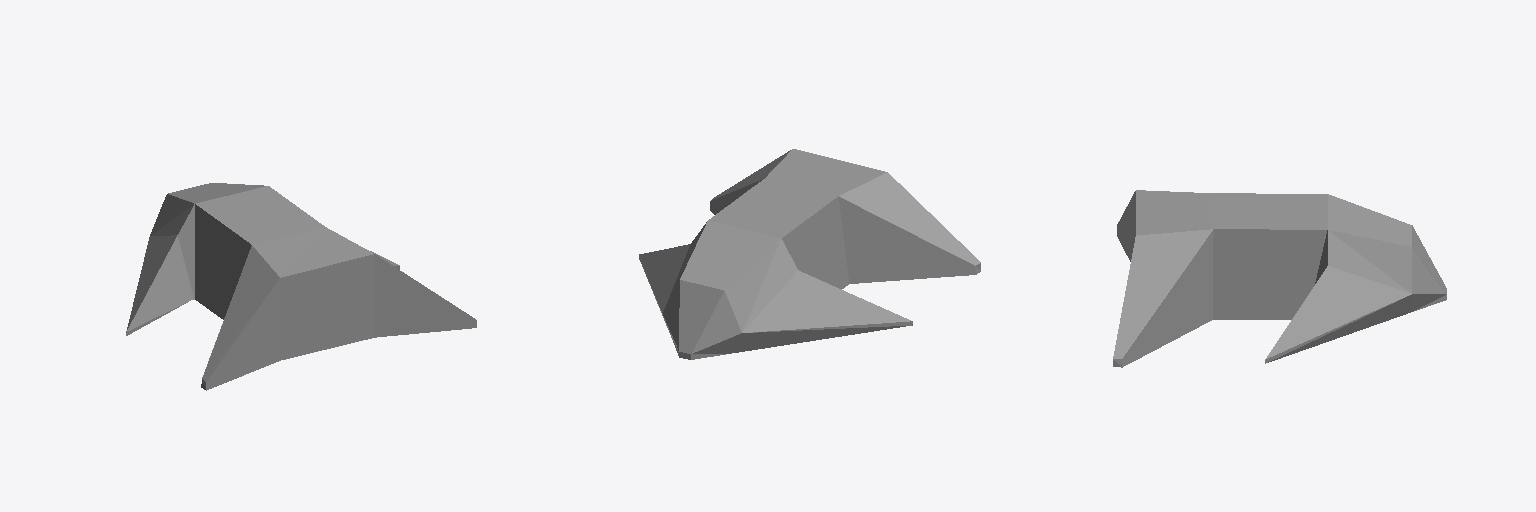
File: NaveInimiga3.obj
3 views of the same model, side by side, from view 1: azimuth 30°, elevation 25°; view 2: azimuth 150°, elevation 25°; view 3: azimuth 270°, elevation 25° (orthographic).
Visible parts, largest first — view 1: Plane; view 2: Plane; view 3: Plane.
Boxes of the visible parts, x1=… form: Plane: x1=126, y1=183, x2=476, y2=390; Plane: x1=639, y1=149, x2=980, y2=359; Plane: x1=1113, y1=190, x2=1446, y2=367.
Size of the model in its own units: 9.03 by 2.8 by 9.52.